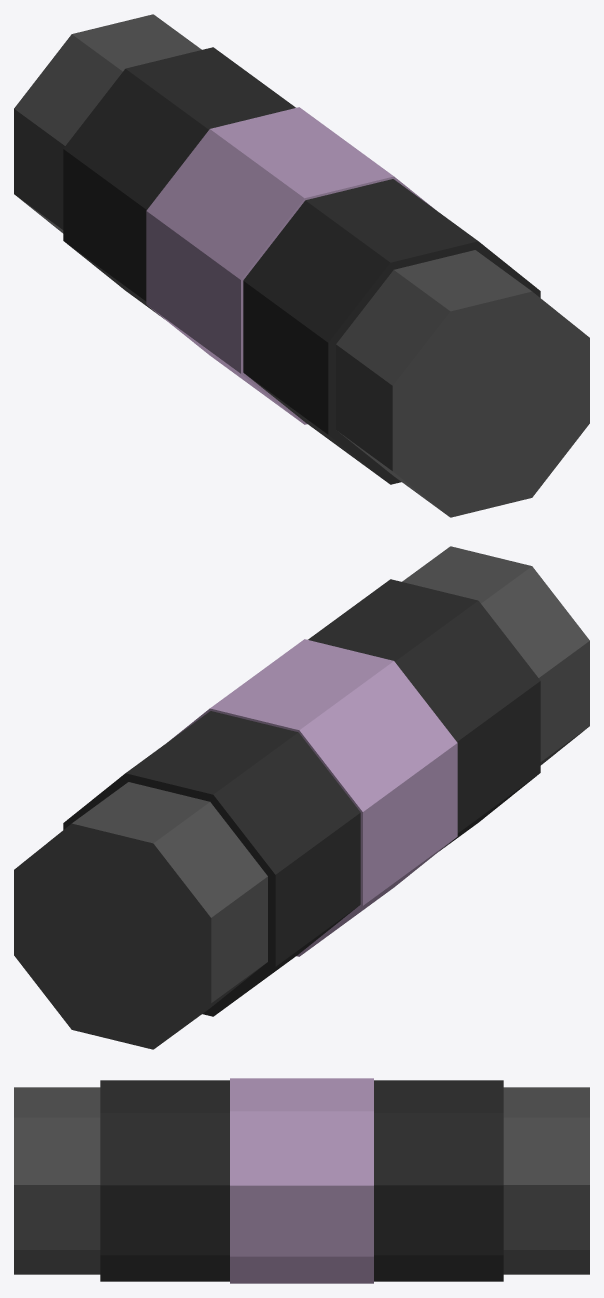
The model's file is ce_ammo2_fuel30_thermo_a.obj.
The picture shows the model from 3 angles, top to bottom: view 1: azimuth 30°, elevation 25°; view 2: azimuth 150°, elevation 25°; view 3: azimuth 270°, elevation 25°; orthographic projection. The views are drawn at different scales.
Visible parts, largest first — view 1: ce_ammo2_fuel30_thermo_a_0, ce_ammo2_fuel30_thermo_a_2, ce_ammo2_fuel30_thermo_a_1, ce_ammo2_fuel30_thermo_a_3, ce_ammo2_fuel30_thermo_a_4; view 2: ce_ammo2_fuel30_thermo_a_4, ce_ammo2_fuel30_thermo_a_2, ce_ammo2_fuel30_thermo_a_3, ce_ammo2_fuel30_thermo_a_1, ce_ammo2_fuel30_thermo_a_0; view 3: ce_ammo2_fuel30_thermo_a_2, ce_ammo2_fuel30_thermo_a_1, ce_ammo2_fuel30_thermo_a_3, ce_ammo2_fuel30_thermo_a_0, ce_ammo2_fuel30_thermo_a_4.
Boxes of the visible parts, x1,y1,x2,y2 form: ce_ammo2_fuel30_thermo_a_0: (336, 250, 589, 517); ce_ammo2_fuel30_thermo_a_2: (146, 107, 433, 424); ce_ammo2_fuel30_thermo_a_1: (243, 179, 540, 484); ce_ammo2_fuel30_thermo_a_3: (63, 47, 295, 319); ce_ammo2_fuel30_thermo_a_4: (14, 14, 201, 233); ce_ammo2_fuel30_thermo_a_4: (14, 782, 267, 1049); ce_ammo2_fuel30_thermo_a_2: (170, 639, 457, 956); ce_ammo2_fuel30_thermo_a_3: (63, 711, 360, 1016); ce_ammo2_fuel30_thermo_a_1: (308, 579, 540, 851); ce_ammo2_fuel30_thermo_a_0: (402, 546, 589, 765); ce_ammo2_fuel30_thermo_a_2: (230, 1078, 373, 1283); ce_ammo2_fuel30_thermo_a_1: (100, 1080, 229, 1281); ce_ammo2_fuel30_thermo_a_3: (374, 1080, 503, 1281); ce_ammo2_fuel30_thermo_a_0: (14, 1087, 100, 1274); ce_ammo2_fuel30_thermo_a_4: (503, 1087, 589, 1274).
Size of the model in its own units: 0.132 by 0.132 by 0.4.
